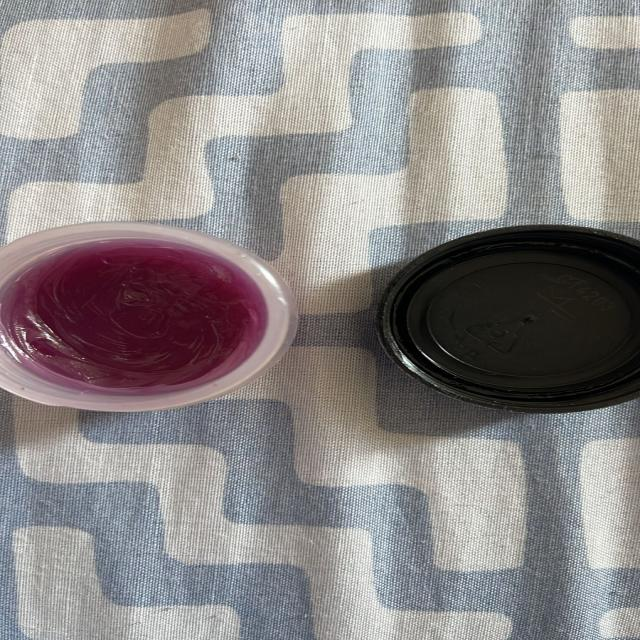lip gloss: (0, 190, 288, 458)
